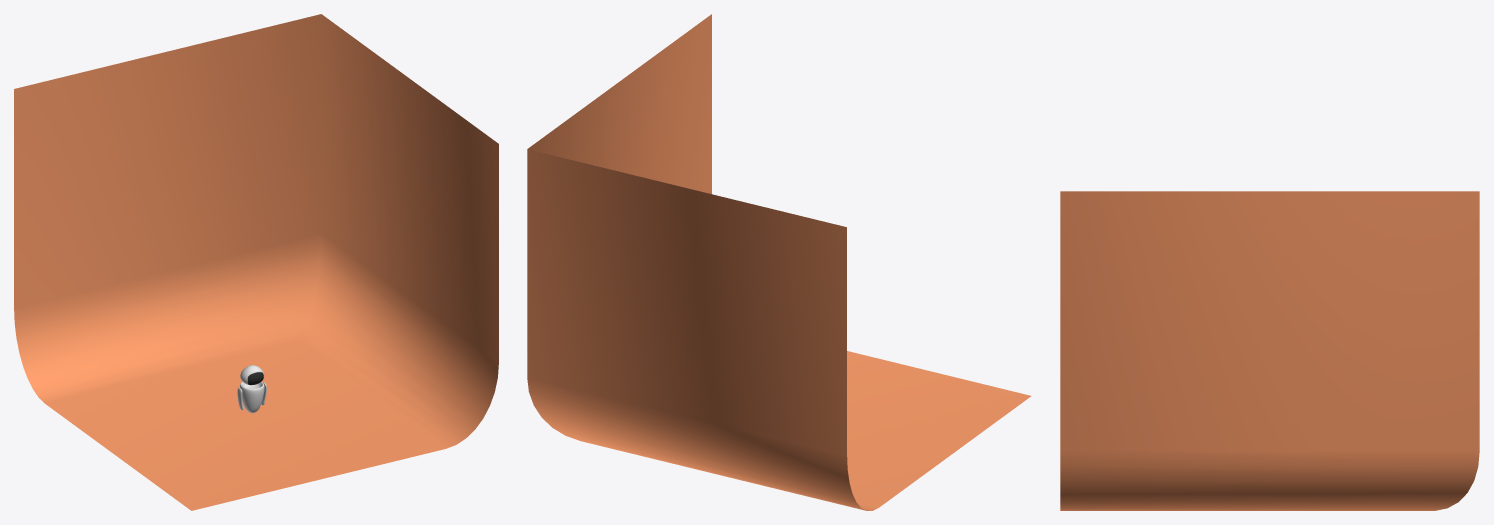
File: Eva.glb
3 renders of one model, left to right at view 1: azimuth 30°, elevation 25°; view 2: azimuth 150°, elevation 25°; view 3: azimuth 270°, elevation 25°, orthographic. The views are drawn at different scales.
Parts seen in each view (by area): view 1: Plane.001, Backup body.001; view 2: Plane.001; view 3: Plane.001.
Part boxes in pixels (x1,y1,x2,y2): Plane.001: (14,14,498,510); Backup body.001: (237,365,266,413); Plane.001: (527,14,1031,510); Plane.001: (1060,191,1479,510).
Size of the model in its own units: 29.69 by 26.96 by 29.69.
